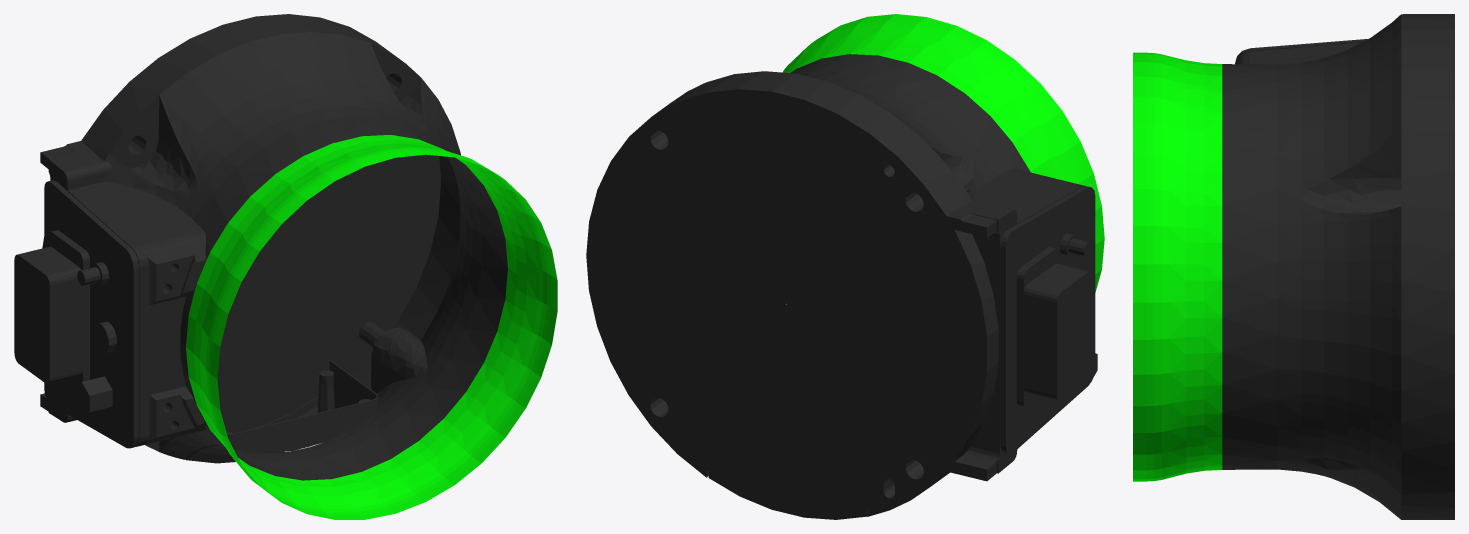
3 views of the same model, side by side, from view 1: azimuth 30°, elevation 25°; view 2: azimuth 150°, elevation 25°; view 3: azimuth 270°, elevation 25° (orthographic). The views are drawn at different scales.
Parts seen in each view (by area): view 1: node; view 2: node; view 3: node.
Boxes of the visible parts, bbox=[...] form: node: bbox=[14, 14, 557, 519]; node: bbox=[586, 14, 1104, 519]; node: bbox=[1133, 14, 1454, 519].
Size of the model in its own units: 316 by 282 by 180.
